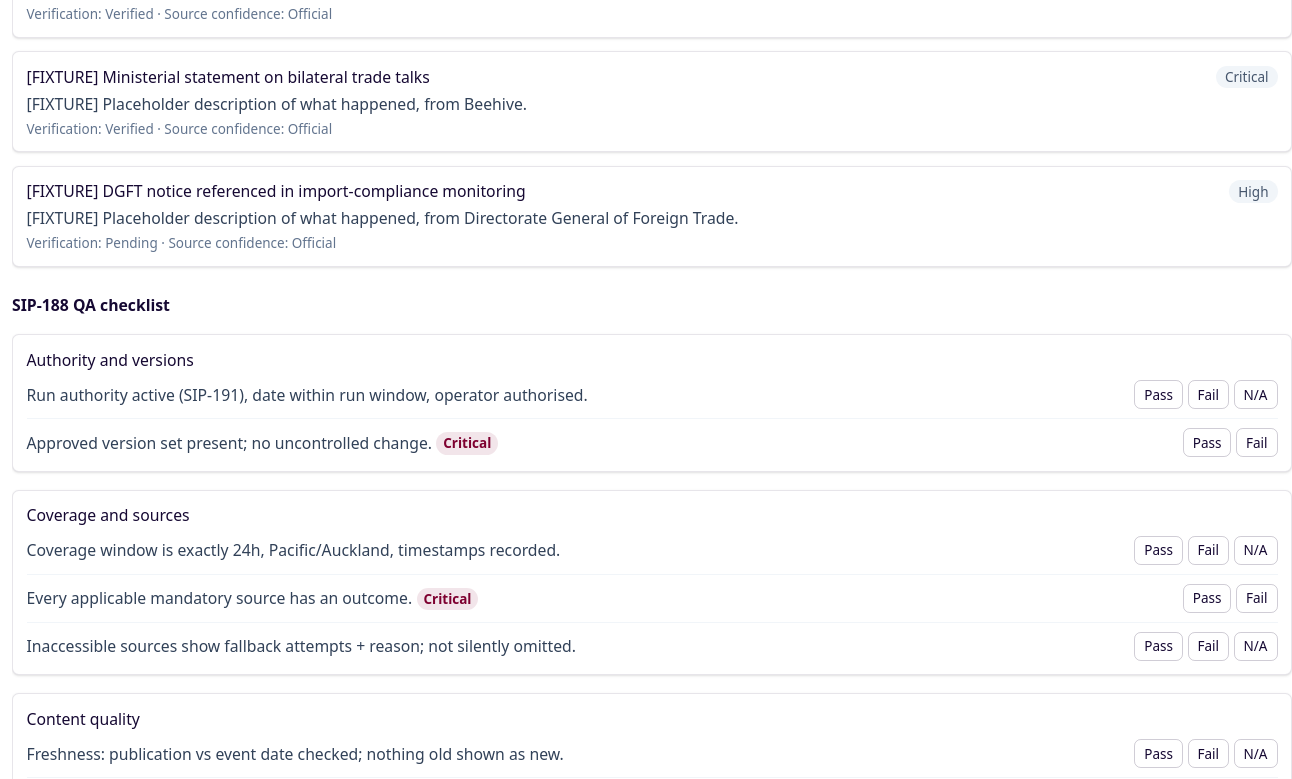
QaReviewScreen › shows a running checklist pass rate as items are answered
The image size is (1292, 779).
(page scrolled)
Click the 1st button "Pass".
click(1159, 395)  # box [1134,380,1183,409]
(page scrolled)
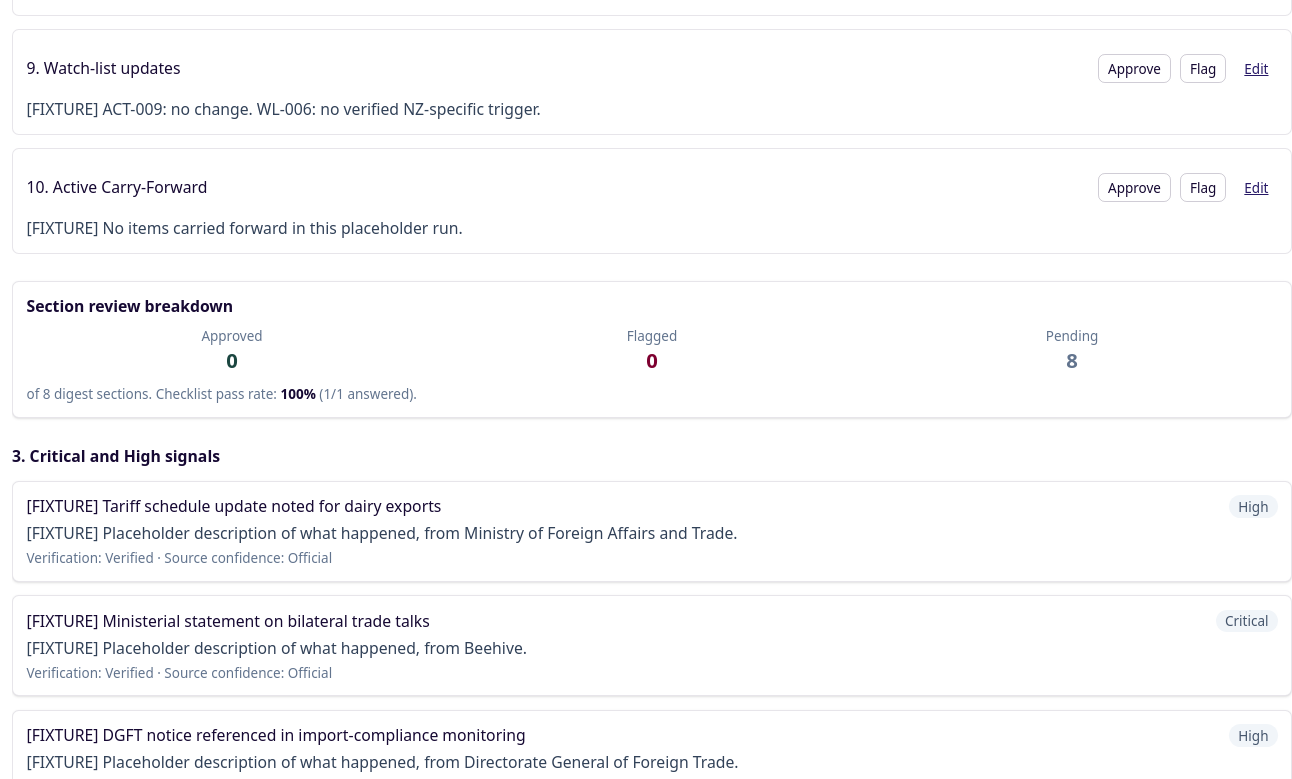
Check: the text "Checklist pass rate" shows "100%", box [26,386,417,404]
